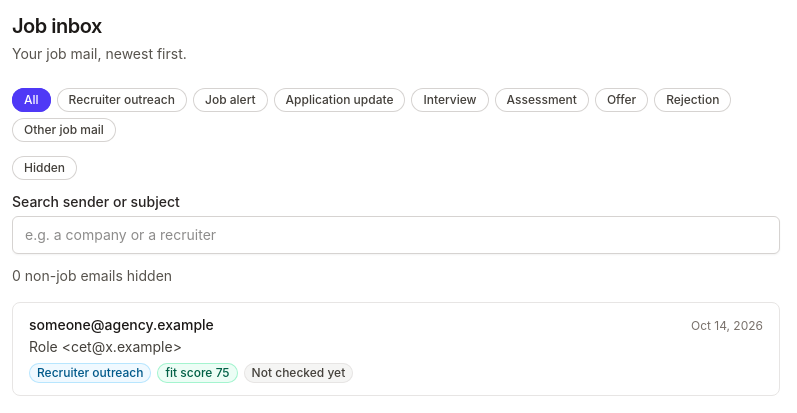
Test: HiddenFilter (F3.4) › switches the inbox to the hidden mail, each with its reason, and back
The image size is (797, 413).
Expected: the text "Role <cet@x.example>" is shown, [29, 338, 182, 355]
Expected: the text "Hidden by your rule \"No Asian hours\"" is not shown
Click the button "Hidden" at (45, 168), box [12, 156, 77, 180]
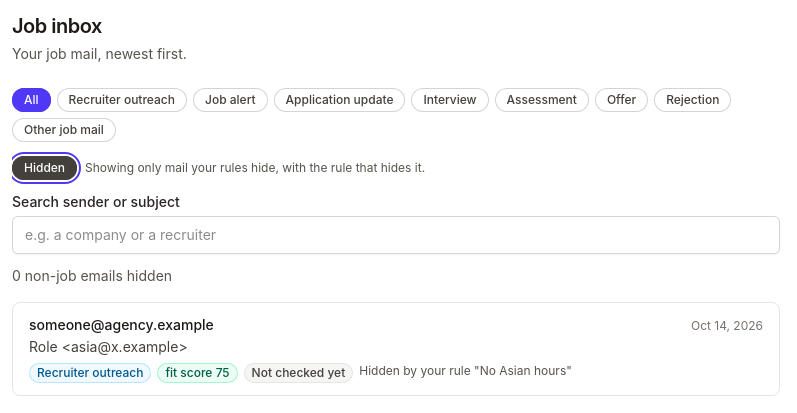
Expected: the text "Role <asia@x.example>" is shown, [29, 338, 188, 355]
Expected: the text "Hidden by your rule \"No Asian hours\"" is shown, [359, 363, 572, 383]
Expected: the link "Role <cet@x.example>" is gone
Click the button "Hidden" at (45, 168), box [12, 156, 77, 180]
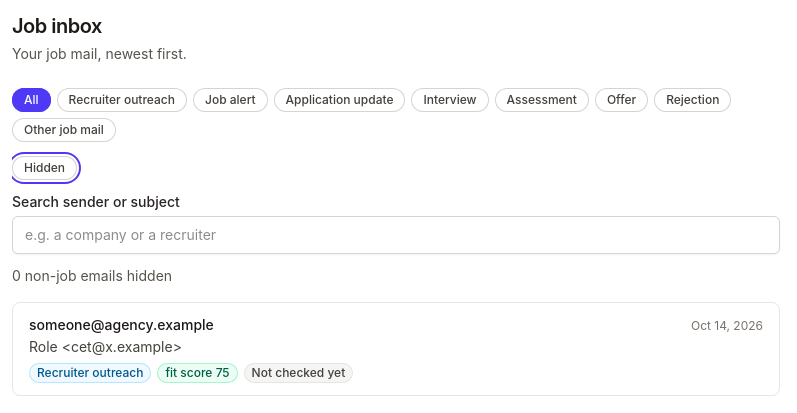
Expected: the text "Role <cet@x.example>" is shown, [29, 338, 182, 355]
